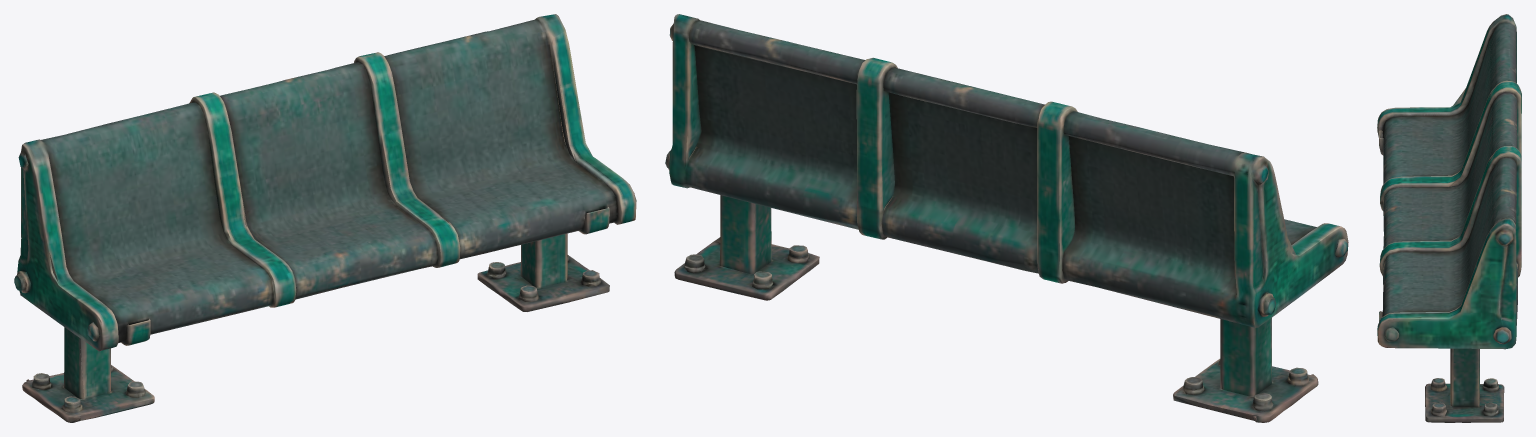
Rendered from bench.glb.
3 views of the same model, side by side, from view 1: azimuth 30°, elevation 25°; view 2: azimuth 150°, elevation 25°; view 3: azimuth 270°, elevation 25° (orthographic). The views are drawn at different scales.
Parts seen in each view (by area): view 1: bench; view 2: bench; view 3: bench.
Boxes of the visible parts, x1,y1,x2,y2 form: bench: [14, 14, 636, 422]; bench: [665, 14, 1348, 422]; bench: [1377, 14, 1521, 422].
Size of the model in its own units: 1.8 by 0.7688 by 0.5059.
Materials: 1 (1 with a texture image).
